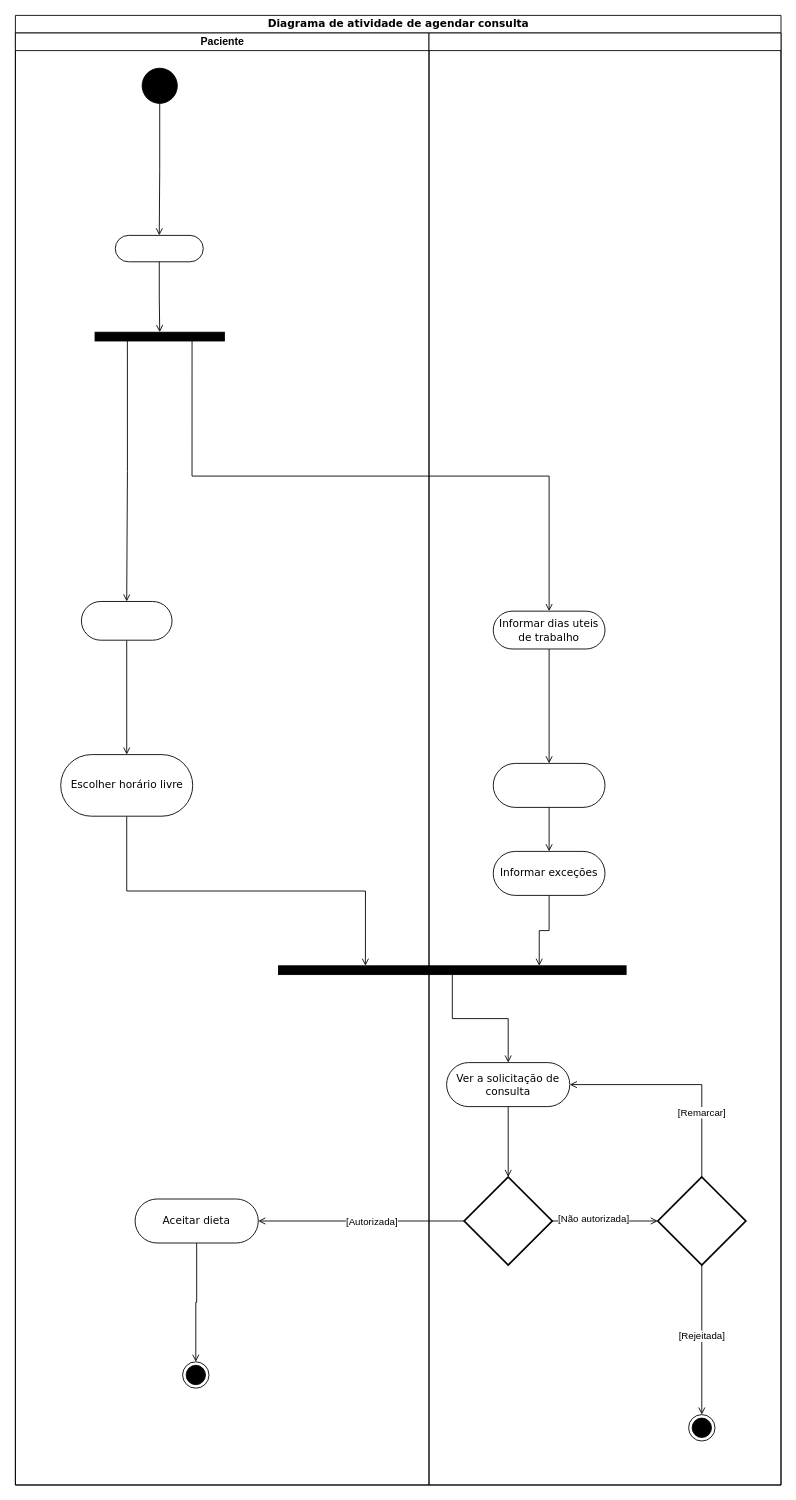
This 796x1500 diagram has some shape labels left out. The shapes that lost their labels are listed below. From the top down, each one's box as (x1, y1, x2, y2) in pixels, then its label:
(114, 235, 203, 262): Solicitar consulta
(81, 601, 172, 640): Pesquisa dias ou horário
(428, 32, 781, 1485): Nutricionista
(492, 763, 605, 807): Informar horário de trabalho
